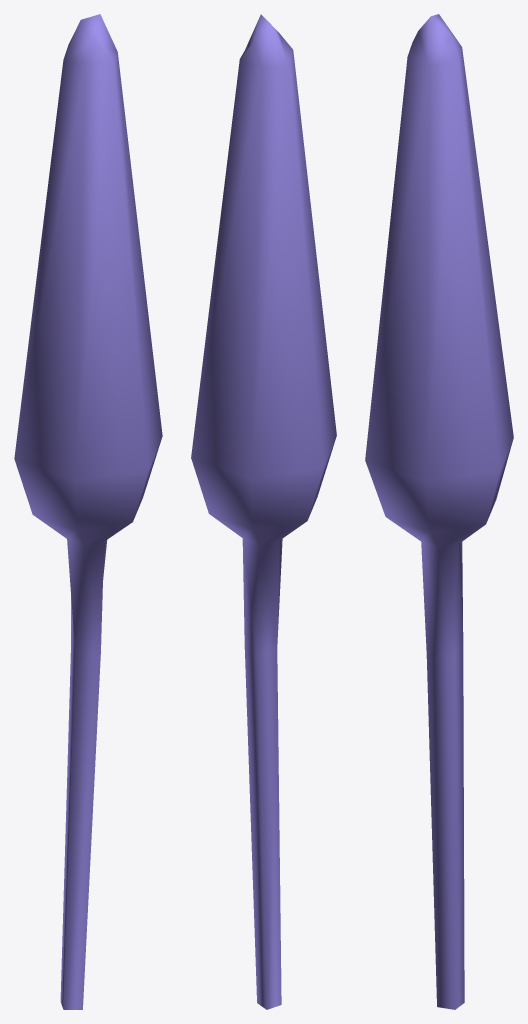
File: roselle5.fbx
3 views of the same model, side by side, from view 1: azimuth 30°, elevation 25°; view 2: azimuth 150°, elevation 25°; view 3: azimuth 270°, elevation 25° (orthographic).
Visible parts, largest first — view 1: roselle5; view 2: roselle5; view 3: roselle5.
Part boxes in pixels (x1,y1,x2,y2): roselle5: [14, 14, 162, 1009]; roselle5: [191, 14, 336, 1009]; roselle5: [365, 14, 513, 1009].
Bounding box in the file's own units: 13.96 × 98.61 × 13.32.
